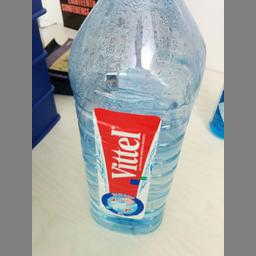water: (65, 0, 206, 232)
